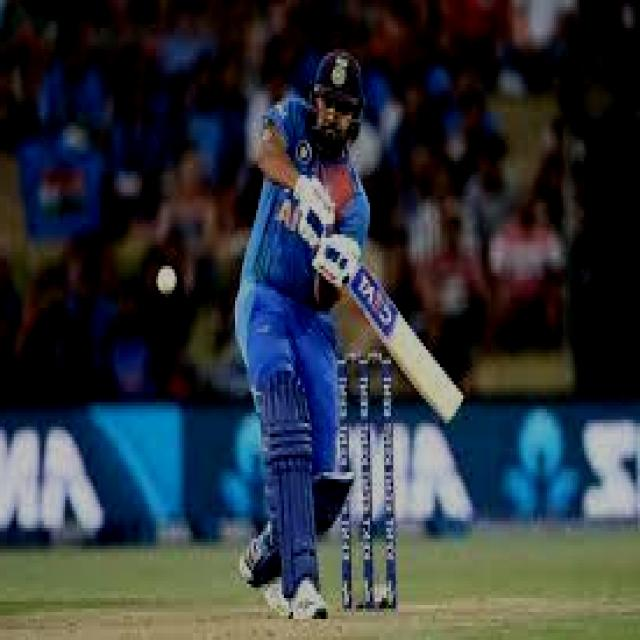toe: (442, 391, 467, 429)
